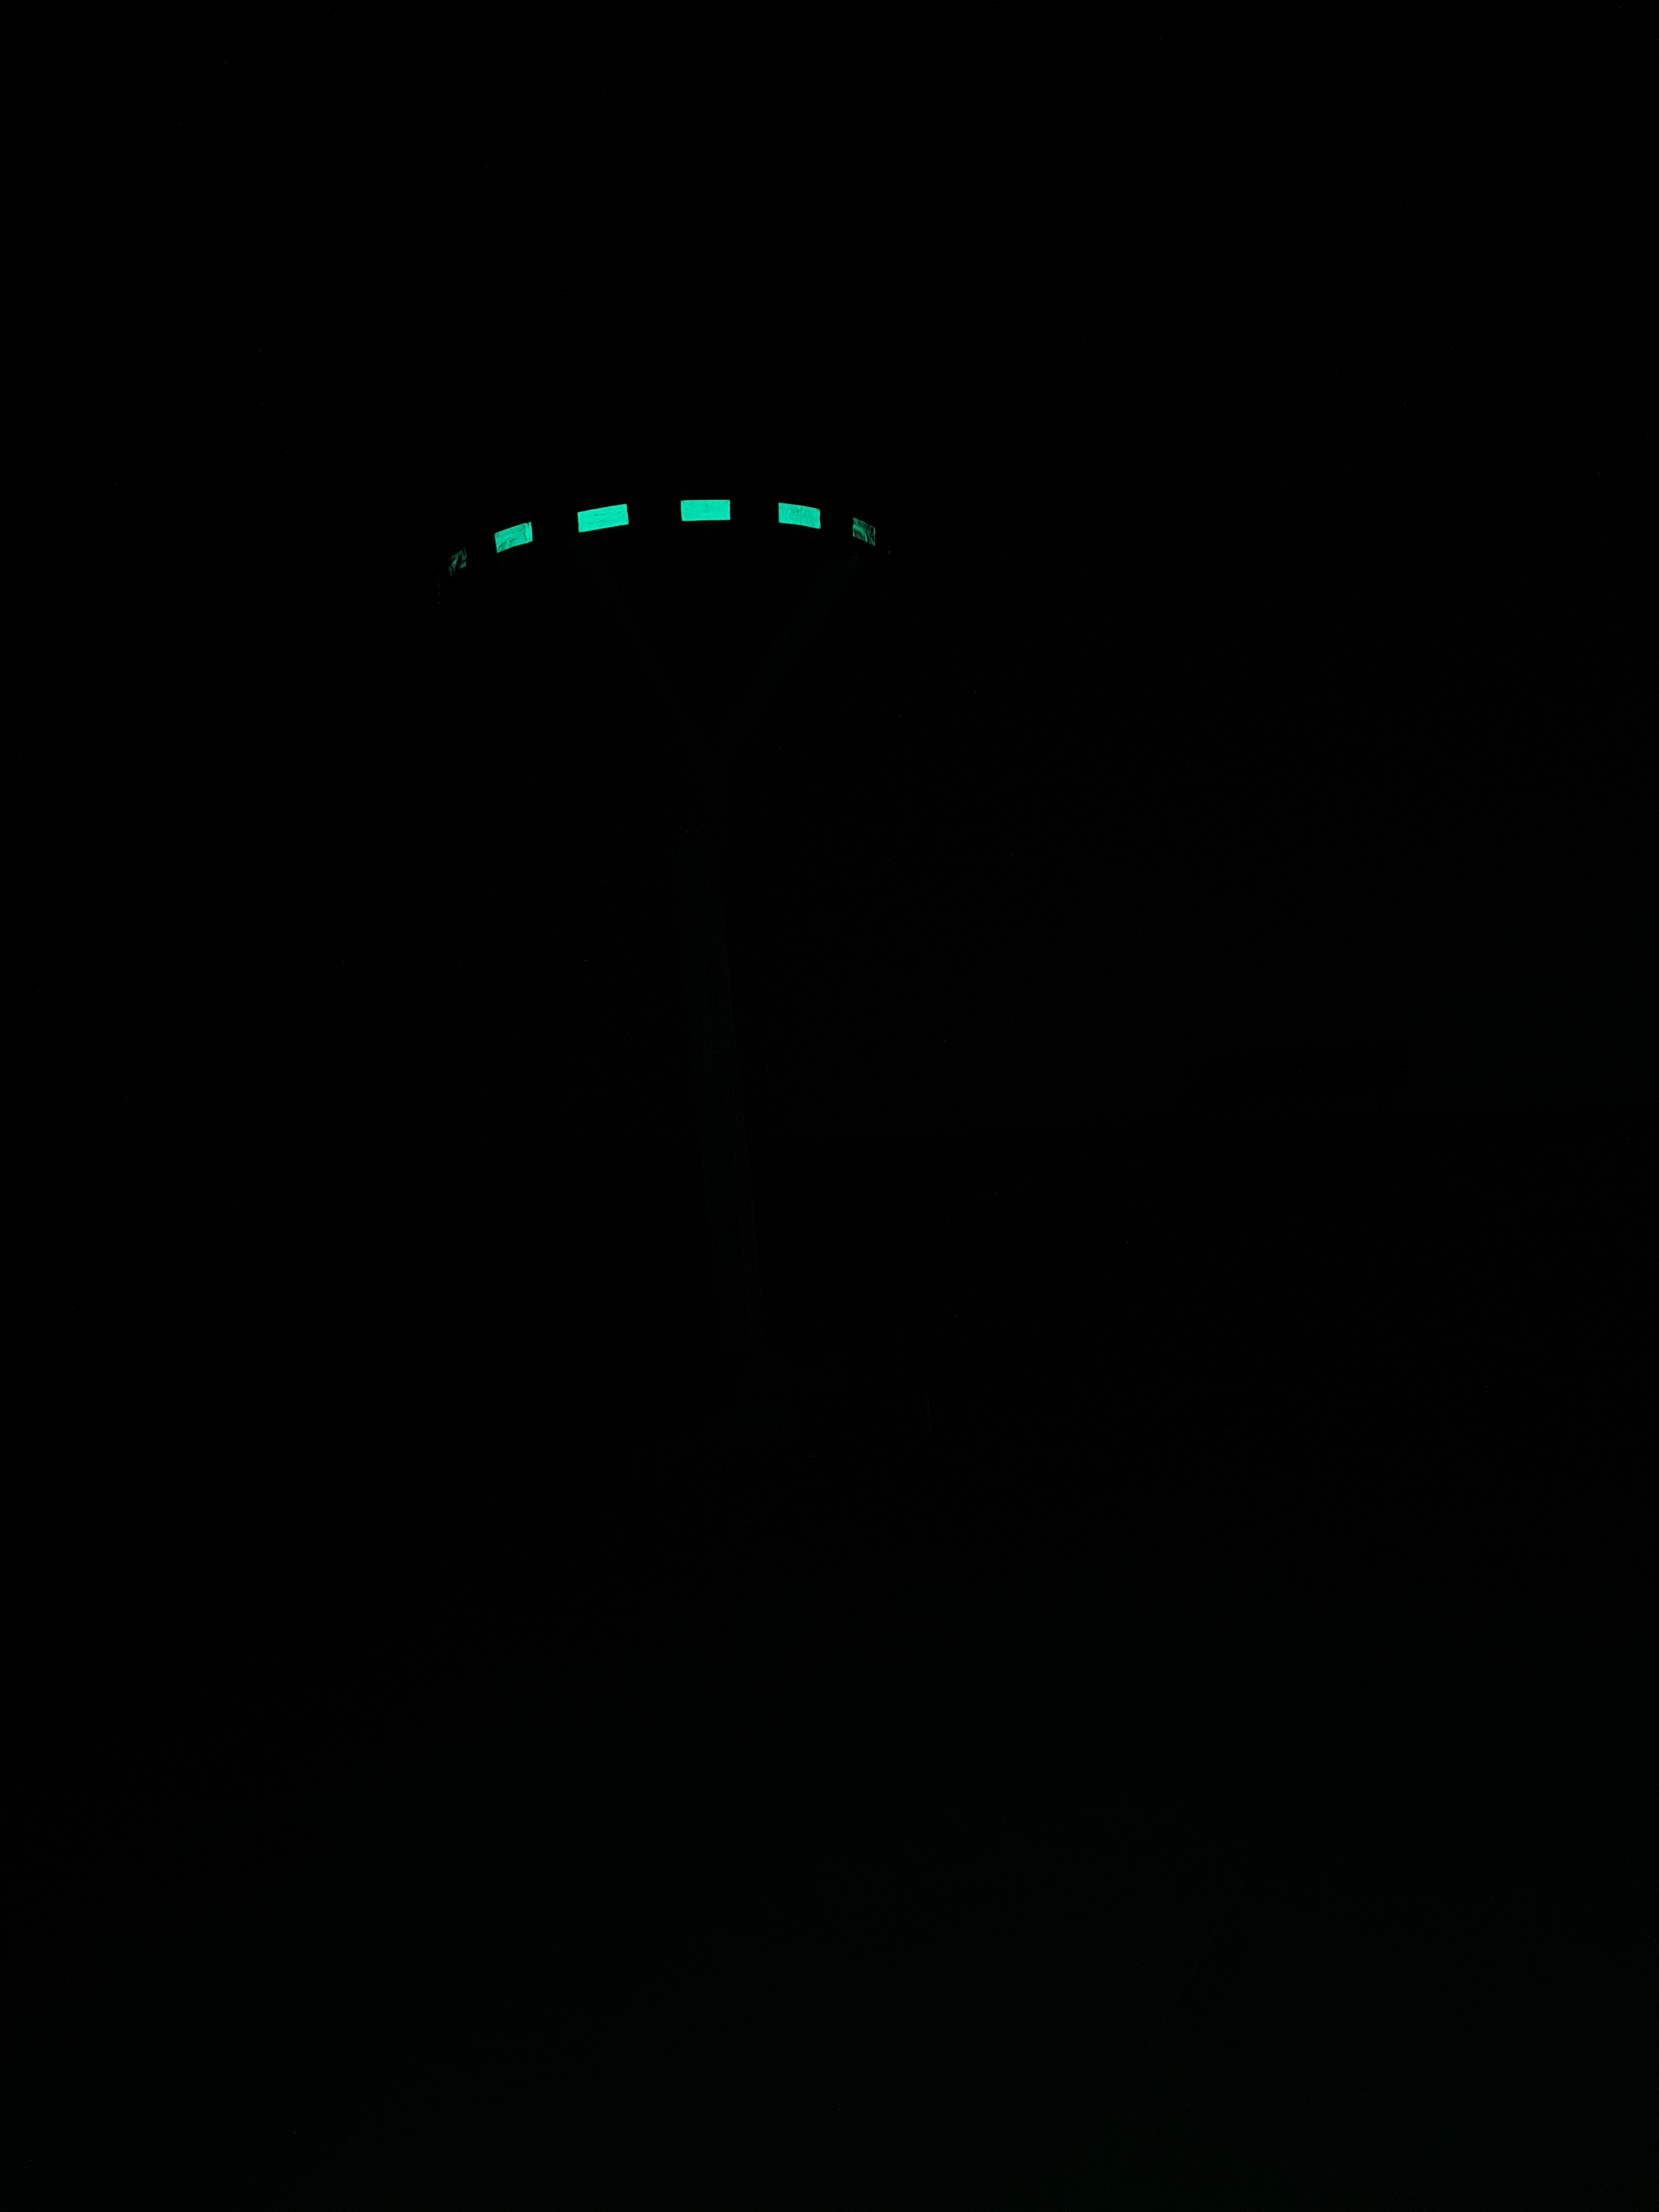hoop: (446, 495, 877, 575)
